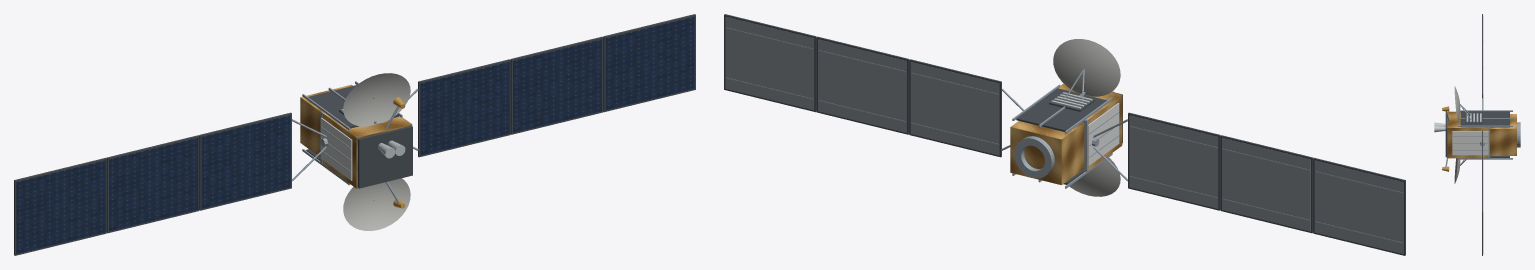
Rendered from amc-early-hybrid.glb.
3 renders of one model, left to right at view 1: azimuth 30°, elevation 25°; view 2: azimuth 150°, elevation 25°; view 3: azimuth 270°, elevation 25°, orthographic. The views are drawn at different scales.
Visible parts, largest first — view 1: Solar cell panel (×6), Communications reflector (×2), Solar panel frame (×6), Earth-facing deck, Payload module, Radiator face, Service module, Equipment bay sidewall; view 2: Rear array substrate (×6), Solar panel frame (×6), Communications reflector (×2), Service module, Equipment bay sidewall, Radiator face, Launch adapter ring, Payload module; view 3: Radiator face, Service module, Payload module, Equipment bay sidewall, Equipment bay longeron (×3), Communications reflector (×2), Louvre surround, Earth-facing deck, Launch adapter ring, Payload feed cluster, Solar panel frame, Rear array substrate (+1 smaller).
Part boxes in pixels (x1,y1,x2,y2): Solar cell panel (×6): (16,16,694,254); Communications reflector (×2): (343,73,410,230); Solar panel frame (×6): (14,14,695,255); Earth-facing deck: (357,126,412,188); Payload module: (322,112,412,188); Radiator face: (320,117,352,180); Service module: (300,84,352,156); Equipment bay sidewall: (308,85,398,128); Rear array substrate (×6): (725,16,1403,253); Solar panel frame (×6): (724,14,1405,255); Communications reflector (×2): (1053,39,1120,196); Service module: (1010,121,1084,185); Equipment bay sidewall: (1016,88,1106,131); Radiator face: (1088,103,1119,165); Launch adapter ring: (1014,136,1054,178); Payload module: (1058,83,1122,169); Radiator face: (1452,131,1488,155); Service module: (1490,114,1516,155); Payload module: (1447,111,1488,158); Equipment bay sidewall: (1460,111,1509,127); Equipment bay longeron (×3): (1457,110,1512,159); Communications reflector (×2): (1454,86,1460,183); Louvre surround: (1465,113,1482,123); Earth-facing deck: (1445,113,1447,157); Launch adapter ring: (1517,122,1520,147); Payload feed cluster: (1434,125,1445,132); Solar panel frame: (1482,184,1482,255); Rear array substrate: (1483,186,1483,254).
Bounding box in the file's own units: 21.97 × 4.8 × 4.05.
9 materials, 2 textured.
